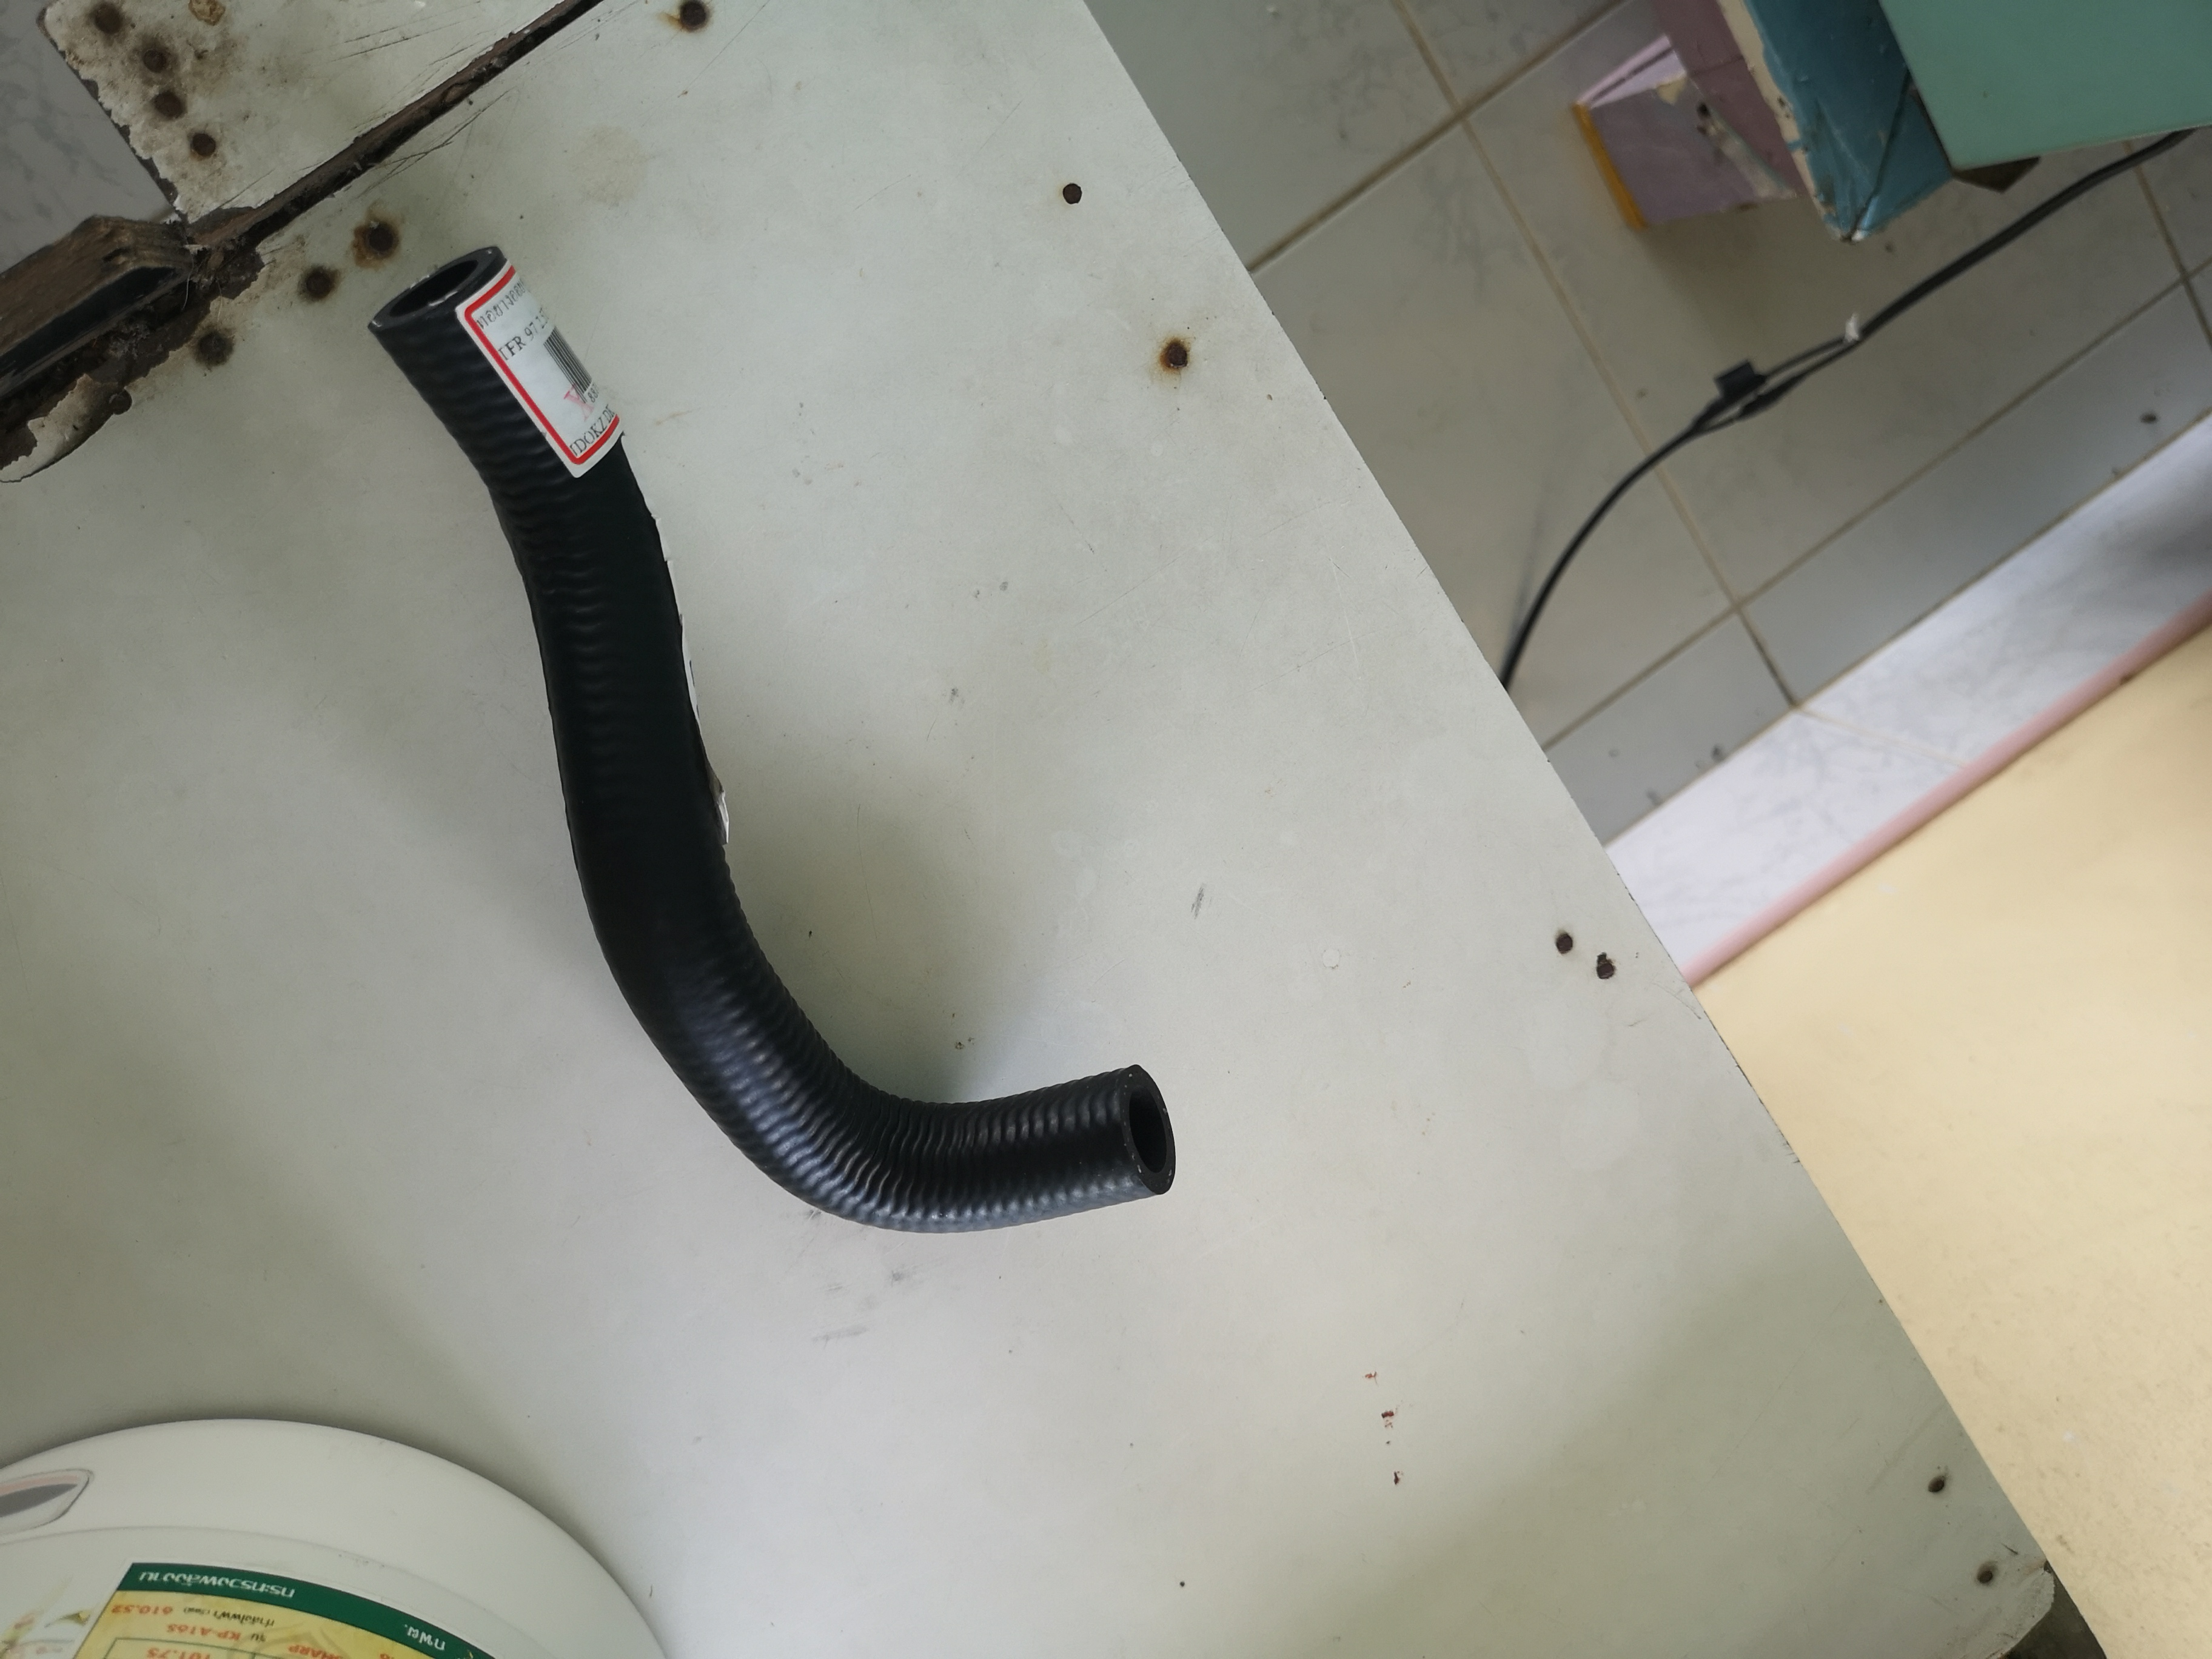ท่อยางน้ำมันเลี้ยงเทอร์โบ: (361, 235, 1217, 1277)
